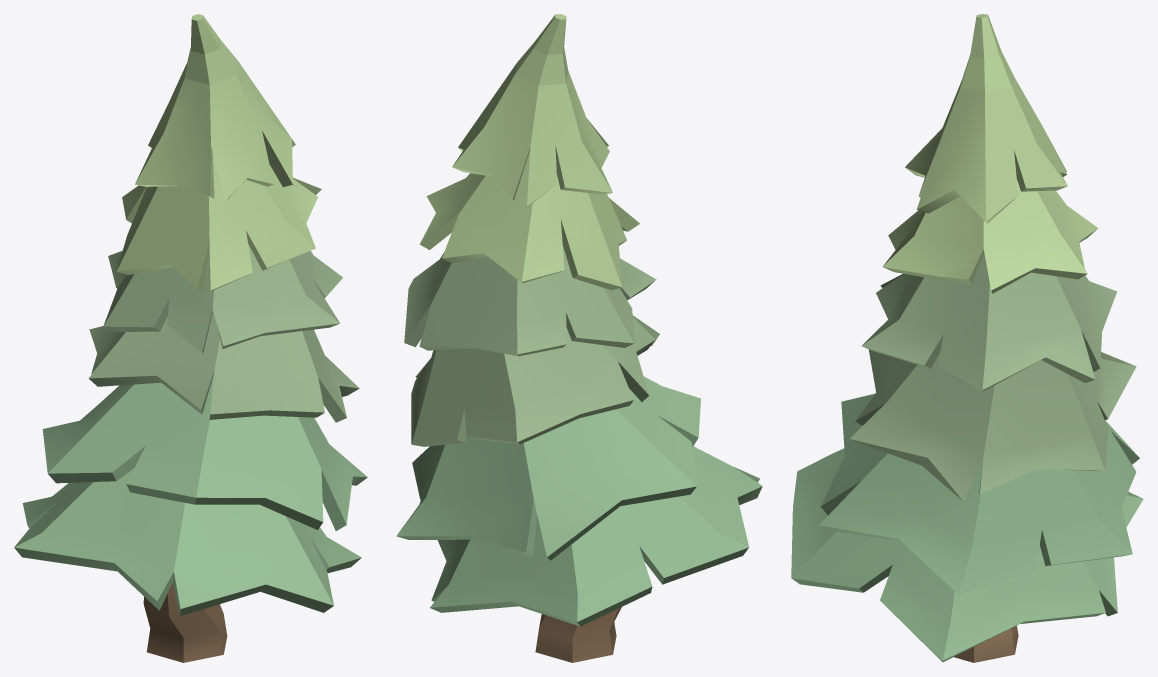
The model's file is pineTree_Green.fbx.
3 renders of one model, left to right at view 1: azimuth 30°, elevation 25°; view 2: azimuth 150°, elevation 25°; view 3: azimuth 270°, elevation 25°, orthographic.
Visible parts, largest first — view 1: pCylinder90, pCylinder91, pCylinder92, pCylinder94, pCylinder95, pCylinder93, pCylinder88; view 2: pCylinder91, pCylinder90, pCylinder92, pCylinder93, pCylinder94, pCylinder95, pCylinder88; view 3: pCylinder91, pCylinder92, pCylinder90, pCylinder93, pCylinder95, pCylinder94, pCylinder88.
Boxes of the visible parts, box(x1,y1,x2,y2) form: pCylinder90: box(14, 468, 361, 616); pCylinder91: box(42, 375, 367, 530); pCylinder92: box(88, 312, 359, 422); pCylinder94: box(116, 153, 321, 290); pCylinder95: box(135, 14, 295, 200); pCylinder93: box(103, 244, 342, 353); pCylinder88: box(143, 583, 227, 662); pCylinder91: box(396, 376, 700, 560); pCylinder90: box(430, 446, 762, 626); pCylinder92: box(411, 315, 659, 446); pCylinder93: box(404, 245, 656, 356); pCylinder94: box(419, 150, 639, 290); pCylinder95: box(452, 14, 612, 207); pCylinder88: box(535, 607, 621, 662); pCylinder91: box(819, 393, 1139, 594); pCylinder92: box(850, 349, 1136, 501); pCylinder90: box(791, 448, 1143, 662); pCylinder93: box(861, 253, 1117, 391); pCylinder95: box(905, 14, 1067, 223); pCylinder94: box(882, 180, 1098, 293); pCylinder88: box(954, 625, 1018, 662).
Size of the model in its own units: 7.46 by 12.88 by 6.48.
